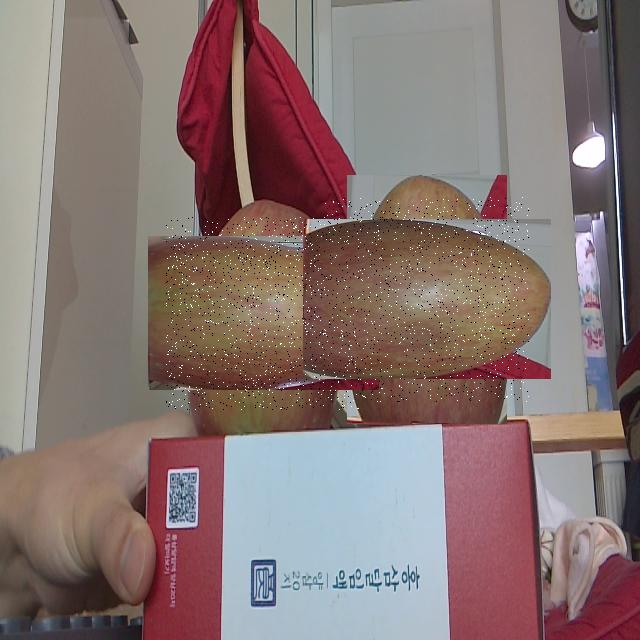apple: (325, 197, 529, 402), (166, 217, 360, 410)
